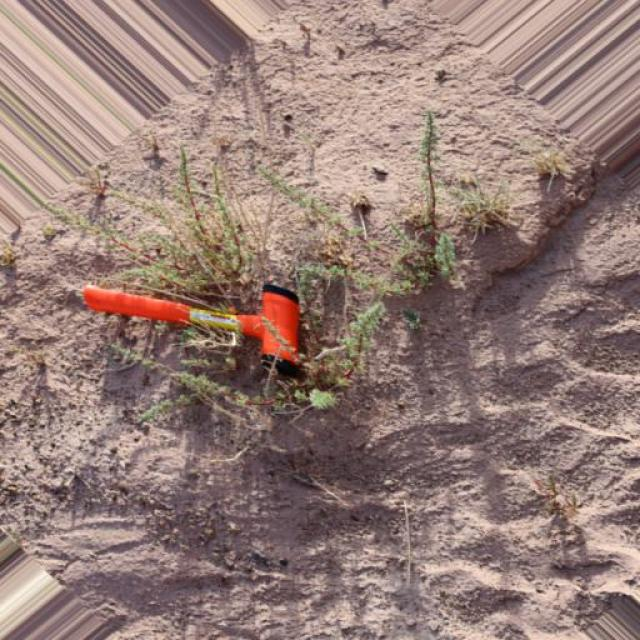mallet: (82, 278, 306, 378)
